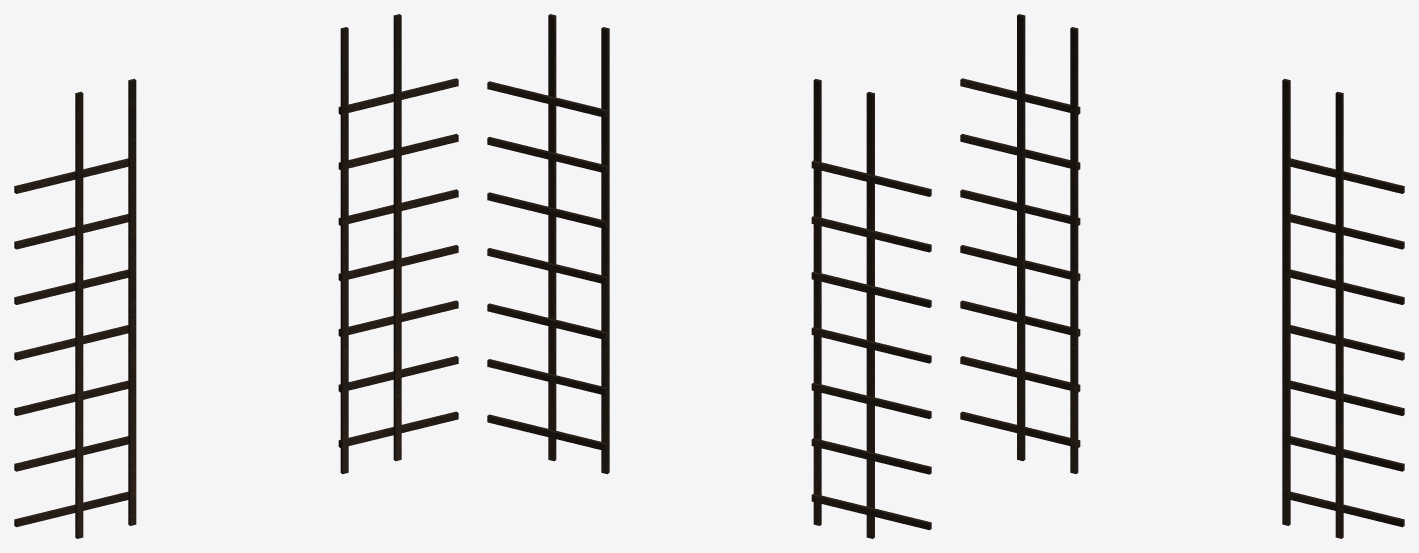
The model's file is bars_metal_1.obj.
3 renders of one model, left to right at view 1: azimuth 30°, elevation 25°; view 2: azimuth 150°, elevation 25°; view 3: azimuth 330°, elevation 25°, orthographic.
Parts seen in each view (by area): view 1: bars_metal_1; view 2: bars_metal_1; view 3: bars_metal_1.
Boxes of the visible parts, left/top/right/bottom form: bars_metal_1: left=14, top=14, right=458, bottom=538; bars_metal_1: left=487, top=14, right=931, bottom=538; bars_metal_1: left=960, top=14, right=1404, bottom=538.
Size of the model in its own units: 2.5 by 2.4 by 0.04.
